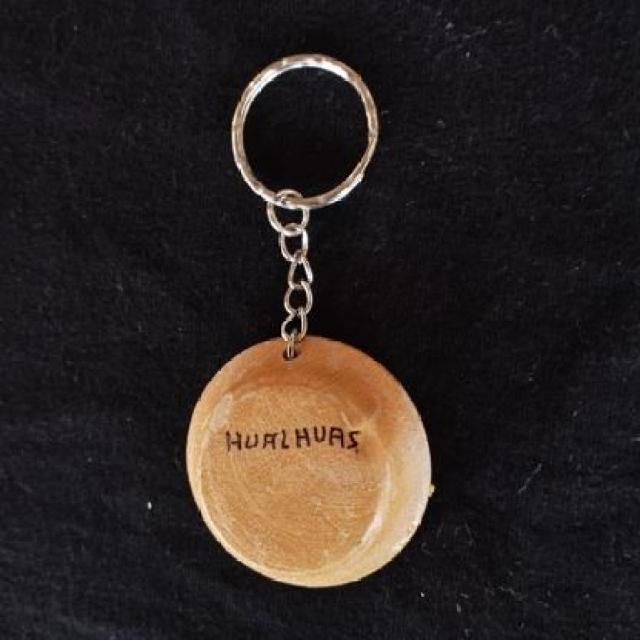Llavero: (183, 333, 434, 589)
